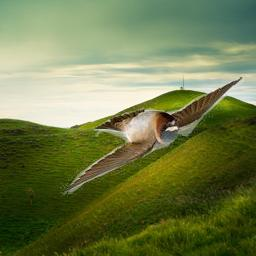Swallow: (60, 77, 244, 197)
